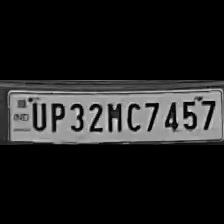2: (84, 99, 104, 133)
3: (66, 100, 86, 132)
4: (160, 97, 180, 130)
5: (178, 96, 198, 132)
7: (198, 96, 218, 132), (140, 98, 160, 132)
C: (122, 98, 142, 132)
M: (104, 99, 124, 133)
P: (46, 99, 66, 133)
U: (27, 97, 46, 130)
